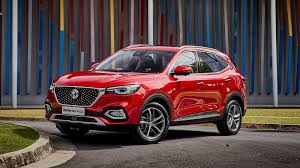pickup: (43, 43, 248, 144)
